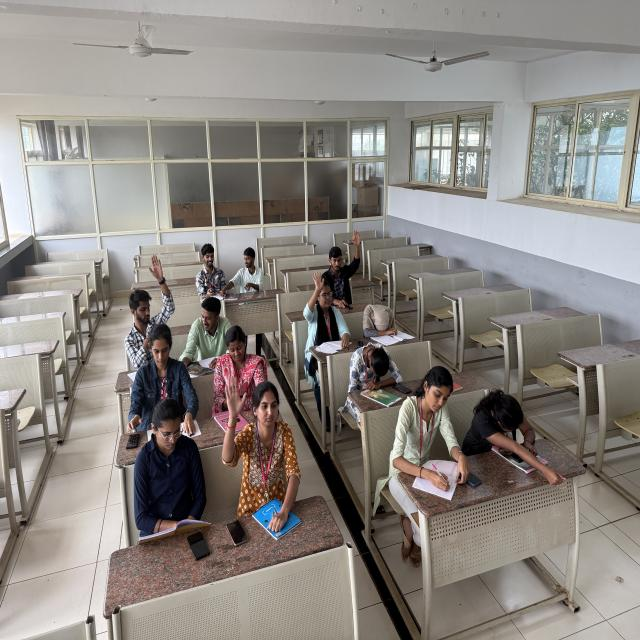Hand Rising: (215, 369, 299, 508), (128, 247, 176, 351), (322, 224, 365, 307), (301, 263, 344, 343)
Reading: (125, 403, 221, 541), (137, 322, 203, 435)
Sleeping: (462, 382, 540, 460), (340, 338, 400, 398), (358, 301, 399, 341)
Using Phone: (195, 242, 231, 298)
Writing: (384, 362, 465, 499)
